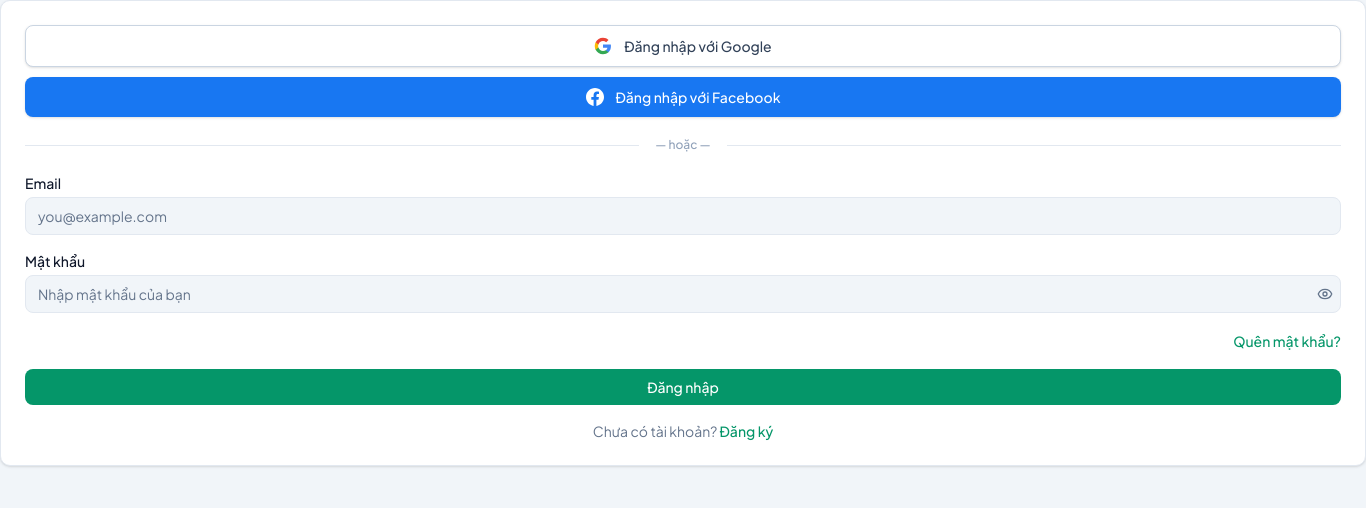
Scenario: LoginForm › shows validation error on blur for invalid email
In the field labelled "Email": (683, 216) [25,197,1341,235], type "not-an-email"
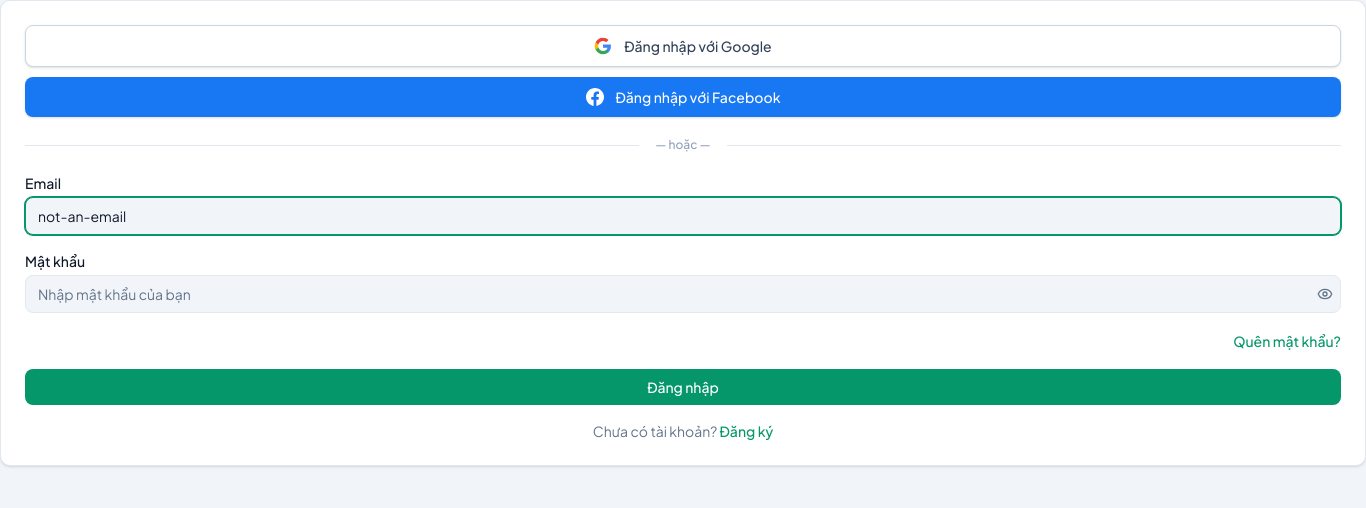
Press Tab
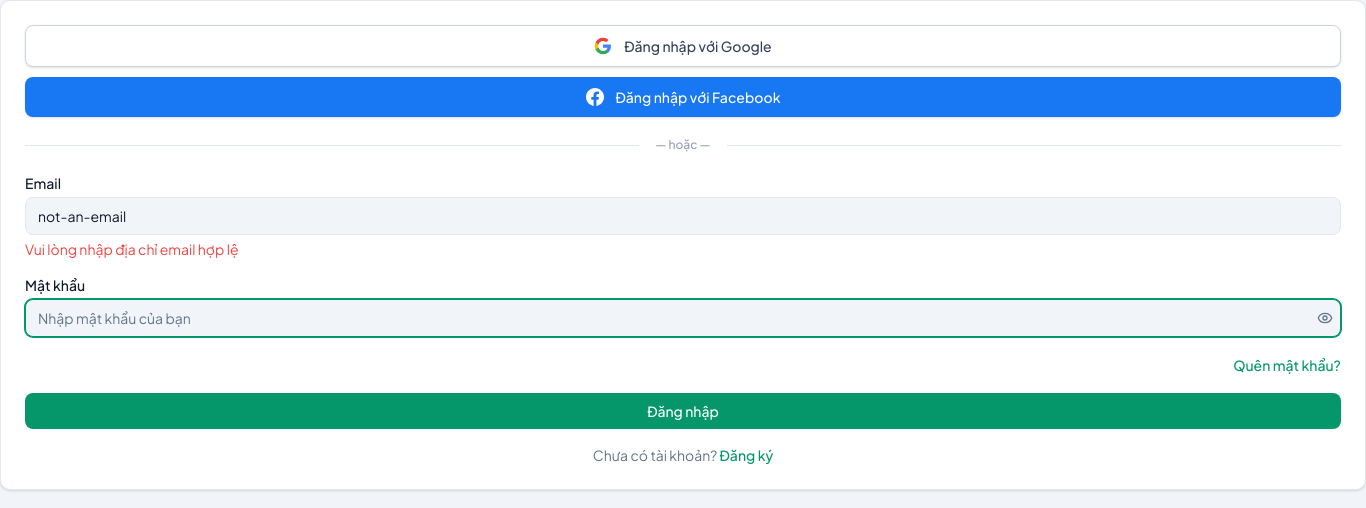
Now the text "Vui lòng nhập địa chỉ email hợp lệ" is shown, box [25,240,238,258]
